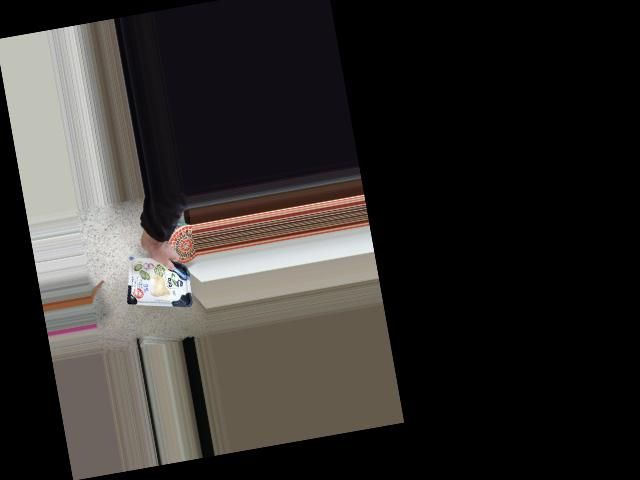cheese: (120, 252, 198, 311)
